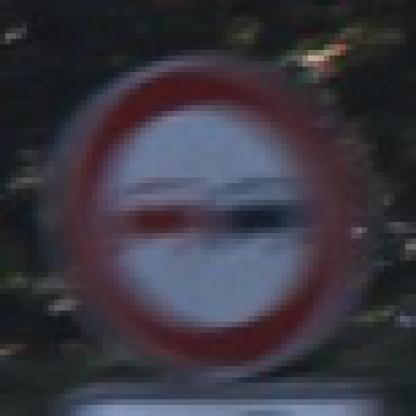No Overtaking: (34, 34, 380, 384)
